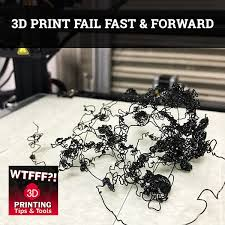fail: (21, 77, 223, 166), (97, 162, 225, 223)
